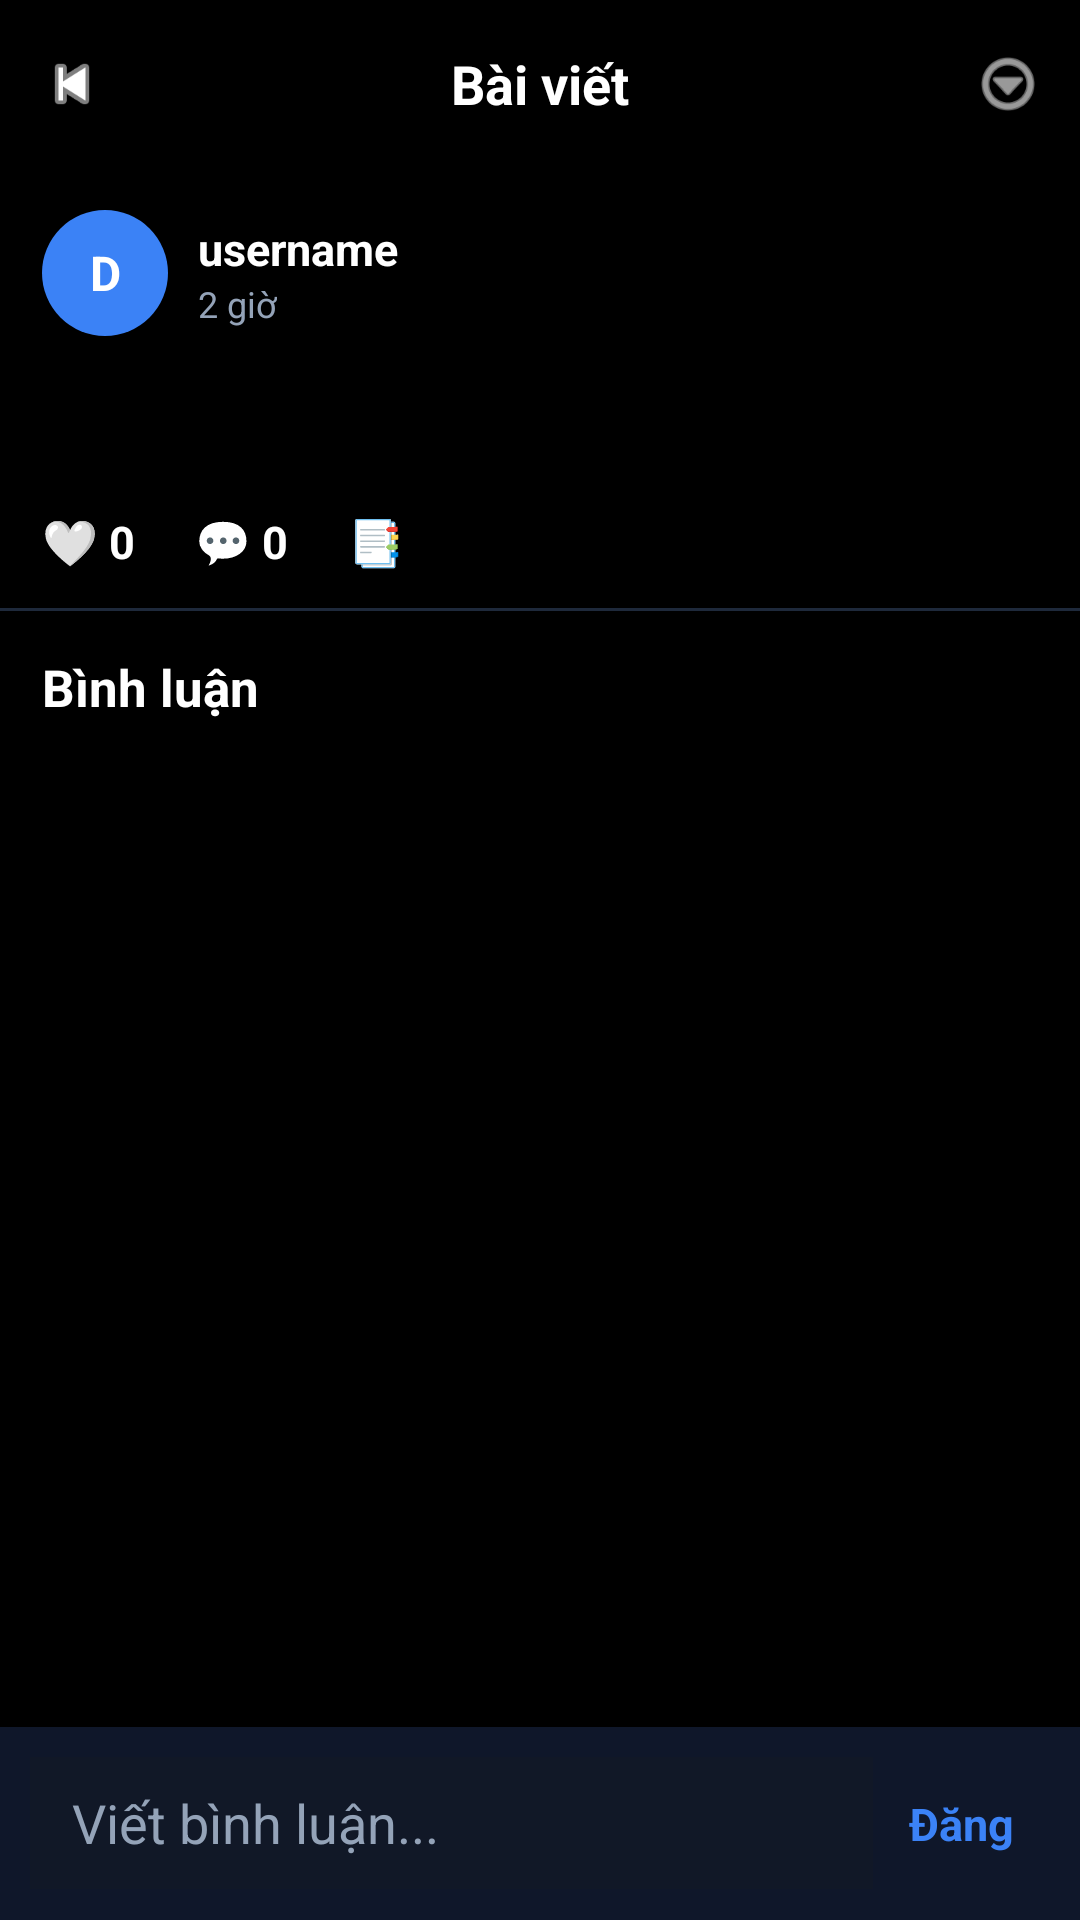

Icon bounding boxes for this 1080 x 1920 phone screenshot, format (x1, y1, x2, y2):
more: (981, 57, 1035, 111)
previous: (55, 64, 89, 104)
